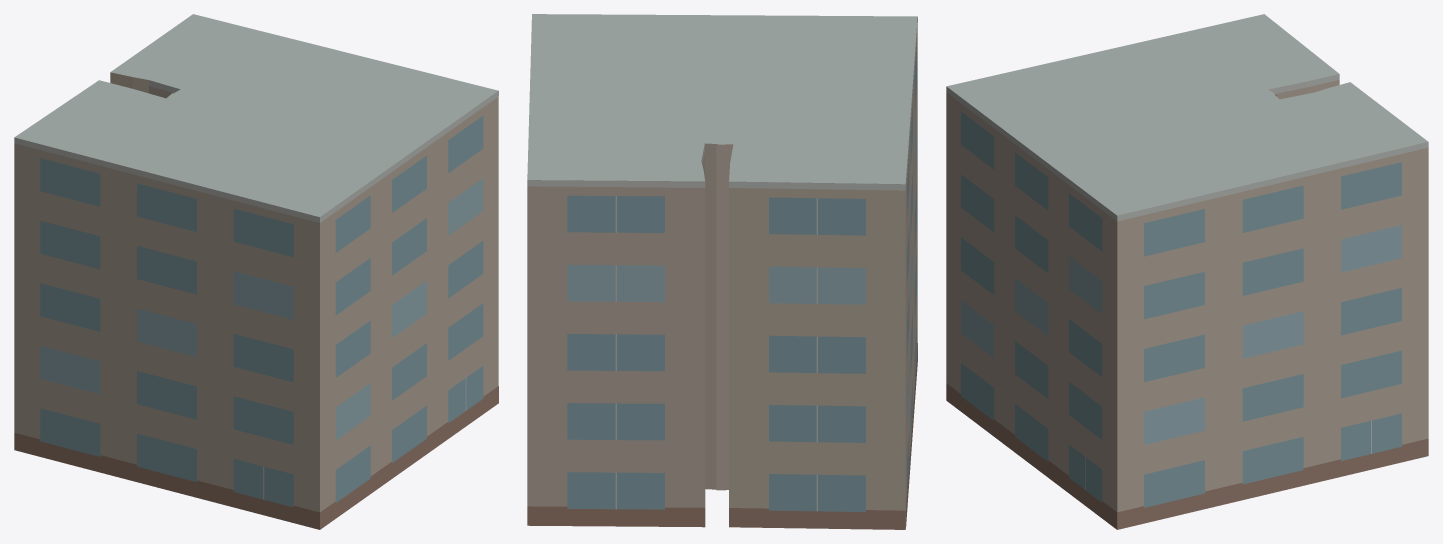
File: survey-upis-32985137.glb
3 views of the same model, side by side, from view 1: azimuth 30°, elevation 25°; view 2: azimuth 150°, elevation 25°; view 3: azimuth 270°, elevation 25° (orthographic). The views are drawn at different scales.
Parts seen in each view (by area): view 1: survey-upis-32985137.tmp; view 2: survey-upis-32985137.tmp; view 3: survey-upis-32985137.tmp.
Part boxes in pixels (left/top/right/bottom): survey-upis-32985137.tmp: left=14, top=14, right=498, bottom=529; survey-upis-32985137.tmp: left=527, top=14, right=917, bottom=529; survey-upis-32985137.tmp: left=946, top=14, right=1428, bottom=529.
Size of the model in its own units: 18.18 by 13.2 by 18.37.
